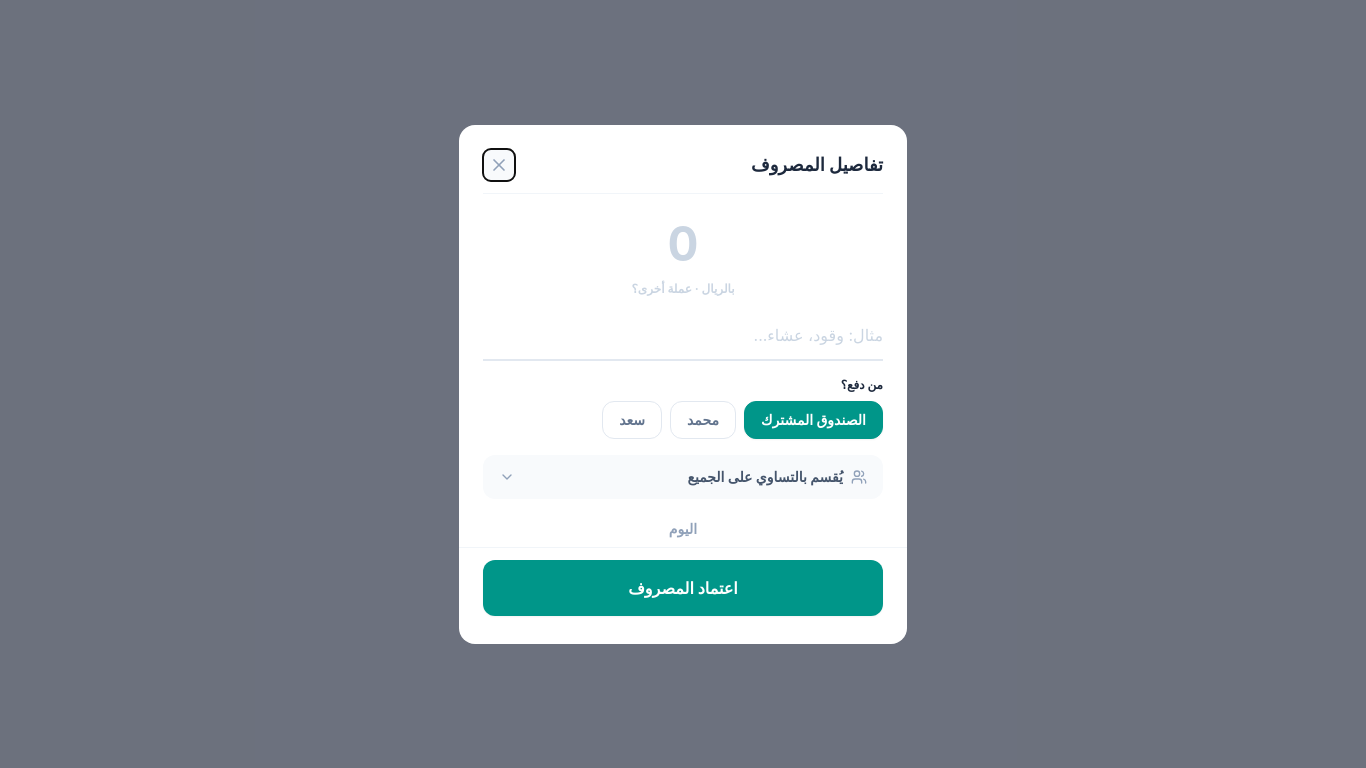
Test case: ExpenseForm — الخيارات المتقدمة لا تظهر إلا عند الحاجة › العملة مطويّة ما دام المصروف بالريال، وتُكشف بنقرة واحدة
Click the button "بالريال · عملة أخرى؟" at (683, 288), box [623,276,743,300]
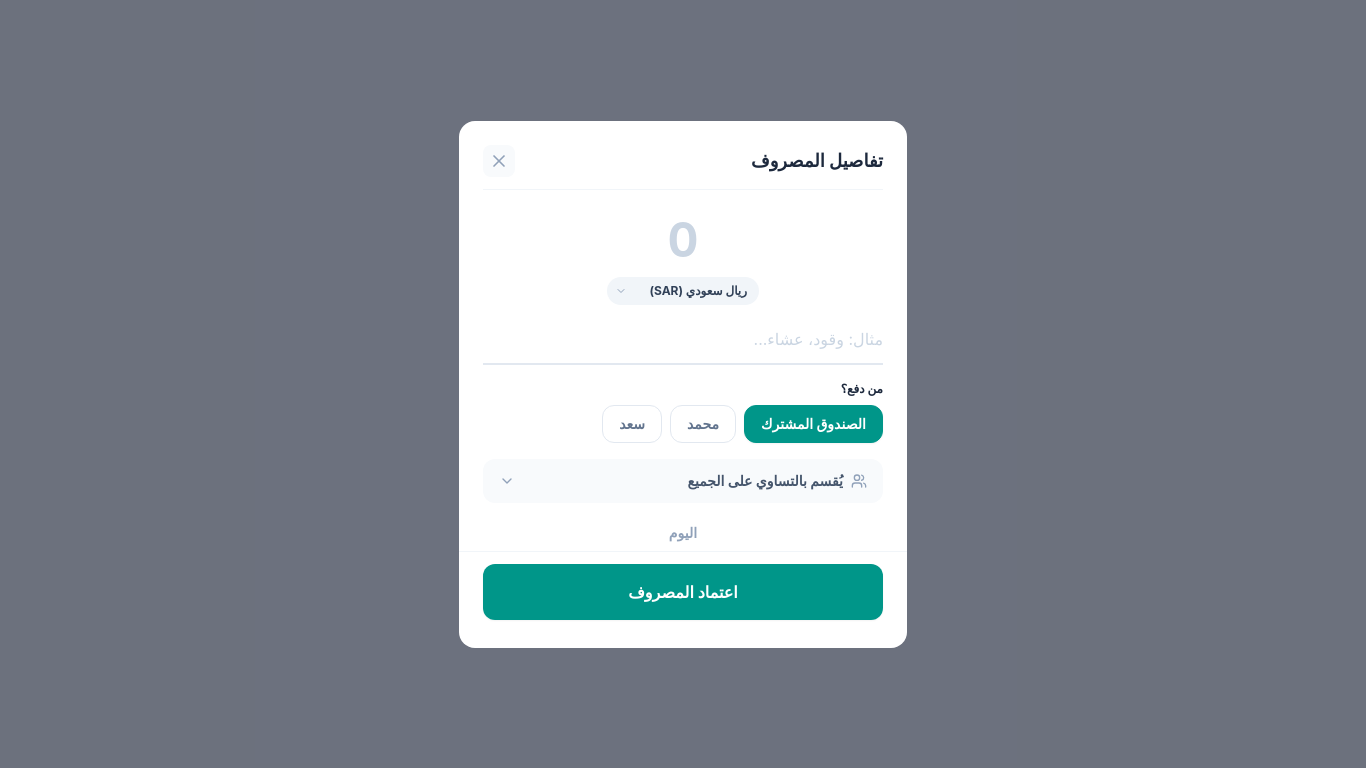
Expected: the dropdown named "العملة" is shown, [607,276,759,304]
